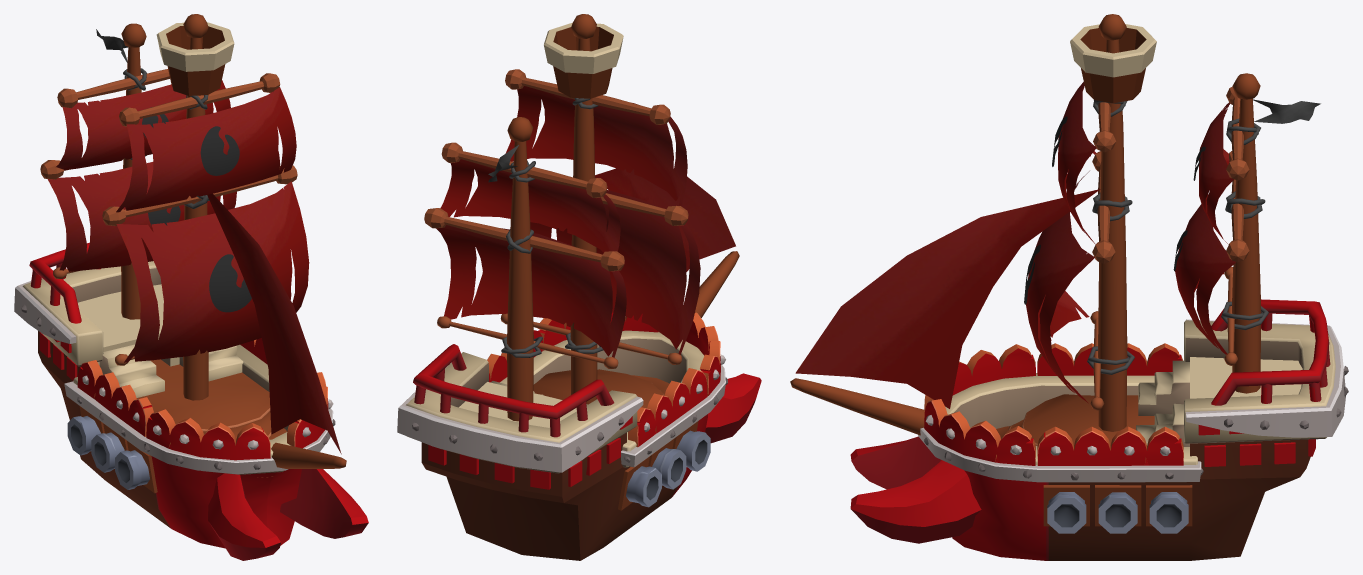
File: CanonTypeC.fbx
The picture shows the model from 3 angles, left to right: view 1: azimuth 30°, elevation 25°; view 2: azimuth 150°, elevation 25°; view 3: azimuth 270°, elevation 25°; orthographic projection. The views are drawn at different scales.
Visible parts, largest first — view 1: Color_Cloth_002, Color_034, Armor_Color_01, Armor_Color_04, Armor_Color_05, Armor_Color_03, Armor_Color_07, Color_Guns_008, Armor_Color_06, Color_Guns_007, Color_Guns_009; view 2: Color_034, Color_Cloth_002, Armor_Color_07, Armor_Color_03, Armor_Color_01, Armor_Color_05, Armor_Color_04, Color_Guns_009, Color_Guns_007, Color_Guns_008, Armor_Color_06, Armor_Color_02; view 3: Color_034, Color_Cloth_002, Armor_Color_01, Armor_Color_02, Armor_Color_07, Armor_Color_05, Armor_Color_06, Armor_Color_03, Armor_Color_04, Color_Guns_012, Color_Guns_010, Color_Guns_011.
Part boxes in pixels (left/top/right/bottom): Color_Cloth_002: left=47, top=29, right=341, bottom=454; Color_034: left=22, top=14, right=346, bottom=548; Armor_Color_01: left=208, top=469, right=368, bottom=560; Armor_Color_04: left=146, top=409, right=270, bottom=460; Armor_Color_05: left=64, top=381, right=335, bottom=474; Armor_Color_03: left=77, top=360, right=153, bottom=436; Armor_Color_07: left=14, top=278, right=76, bottom=343; Color_Guns_008: left=115, top=450, right=149, bottom=489; Armor_Color_06: left=287, top=372, right=333, bottom=448; Color_Guns_007: left=91, top=432, right=124, bottom=472; Color_Guns_009: left=67, top=416, right=100, bottom=455; Color_034: left=406, top=14, right=739, bottom=560; Color_Cloth_002: left=436, top=86, right=735, bottom=357; Armor_Color_07: left=397, top=362, right=643, bottom=472; Armor_Color_03: left=628, top=368, right=707, bottom=447; Armor_Color_01: left=705, top=373, right=761, bottom=443; Armor_Color_05: left=621, top=363, right=727, bottom=467; Armor_Color_04: left=686, top=312, right=725, bottom=395; Color_Guns_009: left=626, top=466, right=661, bottom=507; Color_Guns_007: left=652, top=448, right=686, bottom=489; Color_Guns_008: left=676, top=430, right=710, bottom=471; Armor_Color_06: left=537, top=312, right=658, bottom=350; Armor_Color_02: left=487, top=330, right=542, bottom=382; Color_034: left=790, top=14, right=1335, bottom=560; Color_Cloth_002: left=795, top=82, right=1320, bottom=408; Armor_Color_01: left=850, top=436, right=981, bottom=543; Armor_Color_02: left=1037, top=426, right=1183, bottom=465; Armor_Color_07: left=1185, top=319, right=1348, bottom=437; Armor_Color_05: left=918, top=427, right=1203, bottom=482; Armor_Color_06: left=924, top=399, right=1035, bottom=465; Armor_Color_03: left=1037, top=343, right=1182, bottom=375; Armor_Color_04: left=924, top=344, right=1035, bottom=409; Color_Guns_012: left=1149, top=492, right=1188, bottom=533; Color_Guns_010: left=1047, top=492, right=1086, bottom=533; Color_Guns_011: left=1098, top=492, right=1137, bottom=533.
Bounding box in the file's own units: 19.11 × 45.85 × 44.08.
